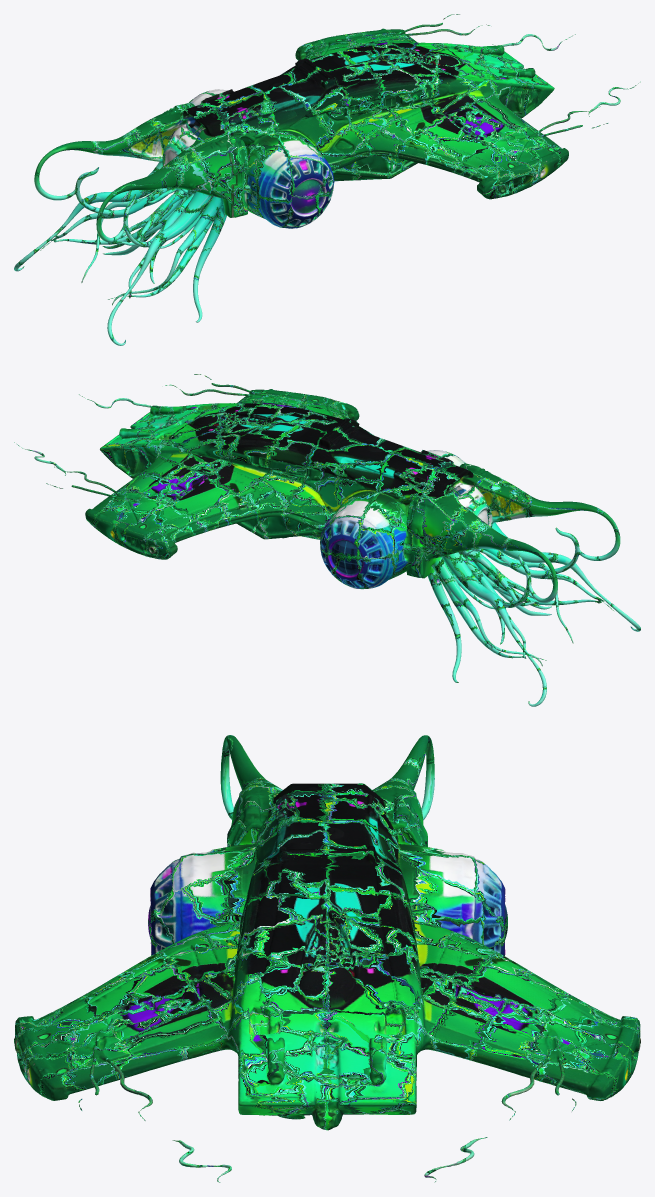
File: AlienEnemyPreditorDrone_lod0.glb
3 views of the same model, one above another, from view 1: azimuth 30°, elevation 25°; view 2: azimuth 150°, elevation 25°; view 3: azimuth 270°, elevation 25° (orthographic). The views are drawn at different scales.
Visible parts, largest first — view 1: mesh; view 2: mesh; view 3: mesh.
Boxes of the visible parts, <box> form: mesh: <box>14,14,640,345</box>; mesh: <box>14,374,640,706</box>; mesh: <box>14,735,640,1182</box>.
Bounding box in the file's own units: 1.9 × 0.5971 × 1.14.
1 material, 1 textured.
